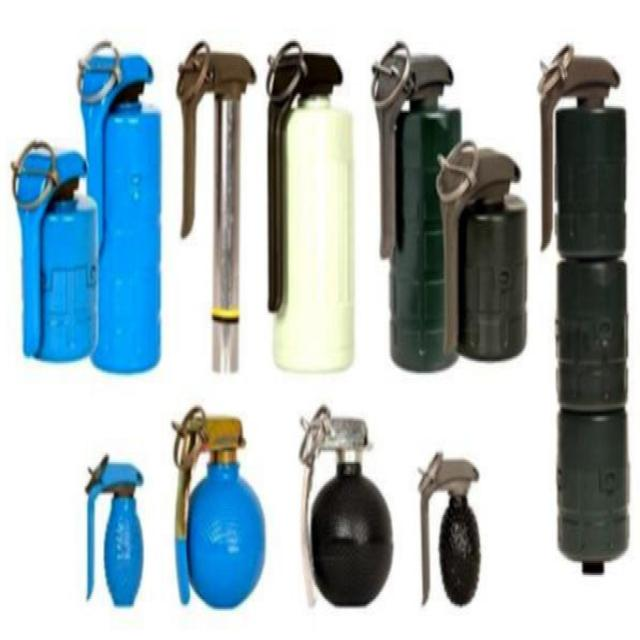grenade: (537, 48, 631, 574), (373, 41, 463, 378), (268, 44, 357, 379), (80, 37, 165, 377), (174, 405, 270, 612), (441, 140, 530, 362), (298, 408, 394, 610), (14, 148, 101, 367), (421, 454, 484, 612), (87, 455, 144, 609)
